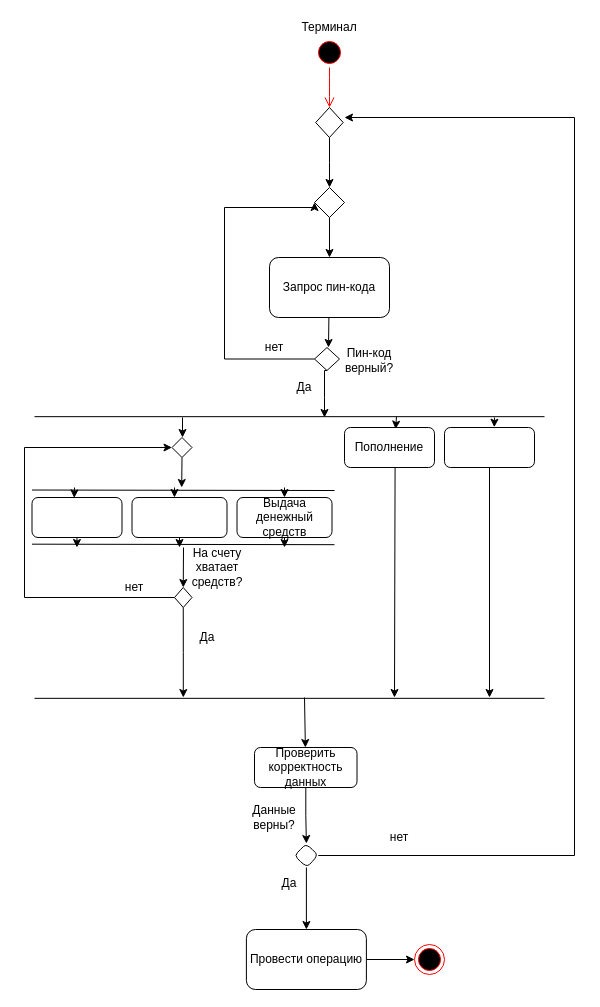
The diagram is 600 pixels wide and 1007 high, and some of its shapes have lost their labels. Each missing label, with the box of its shape:
Запрос баланса: (444, 426, 534, 468)
Оплата счета: (31, 496, 122, 538)
Перевод: (131, 496, 227, 538)
